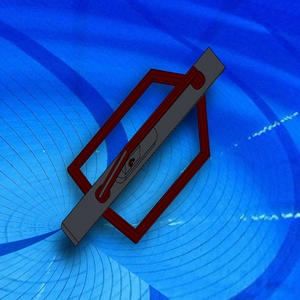submarine: (58, 43, 227, 263)
